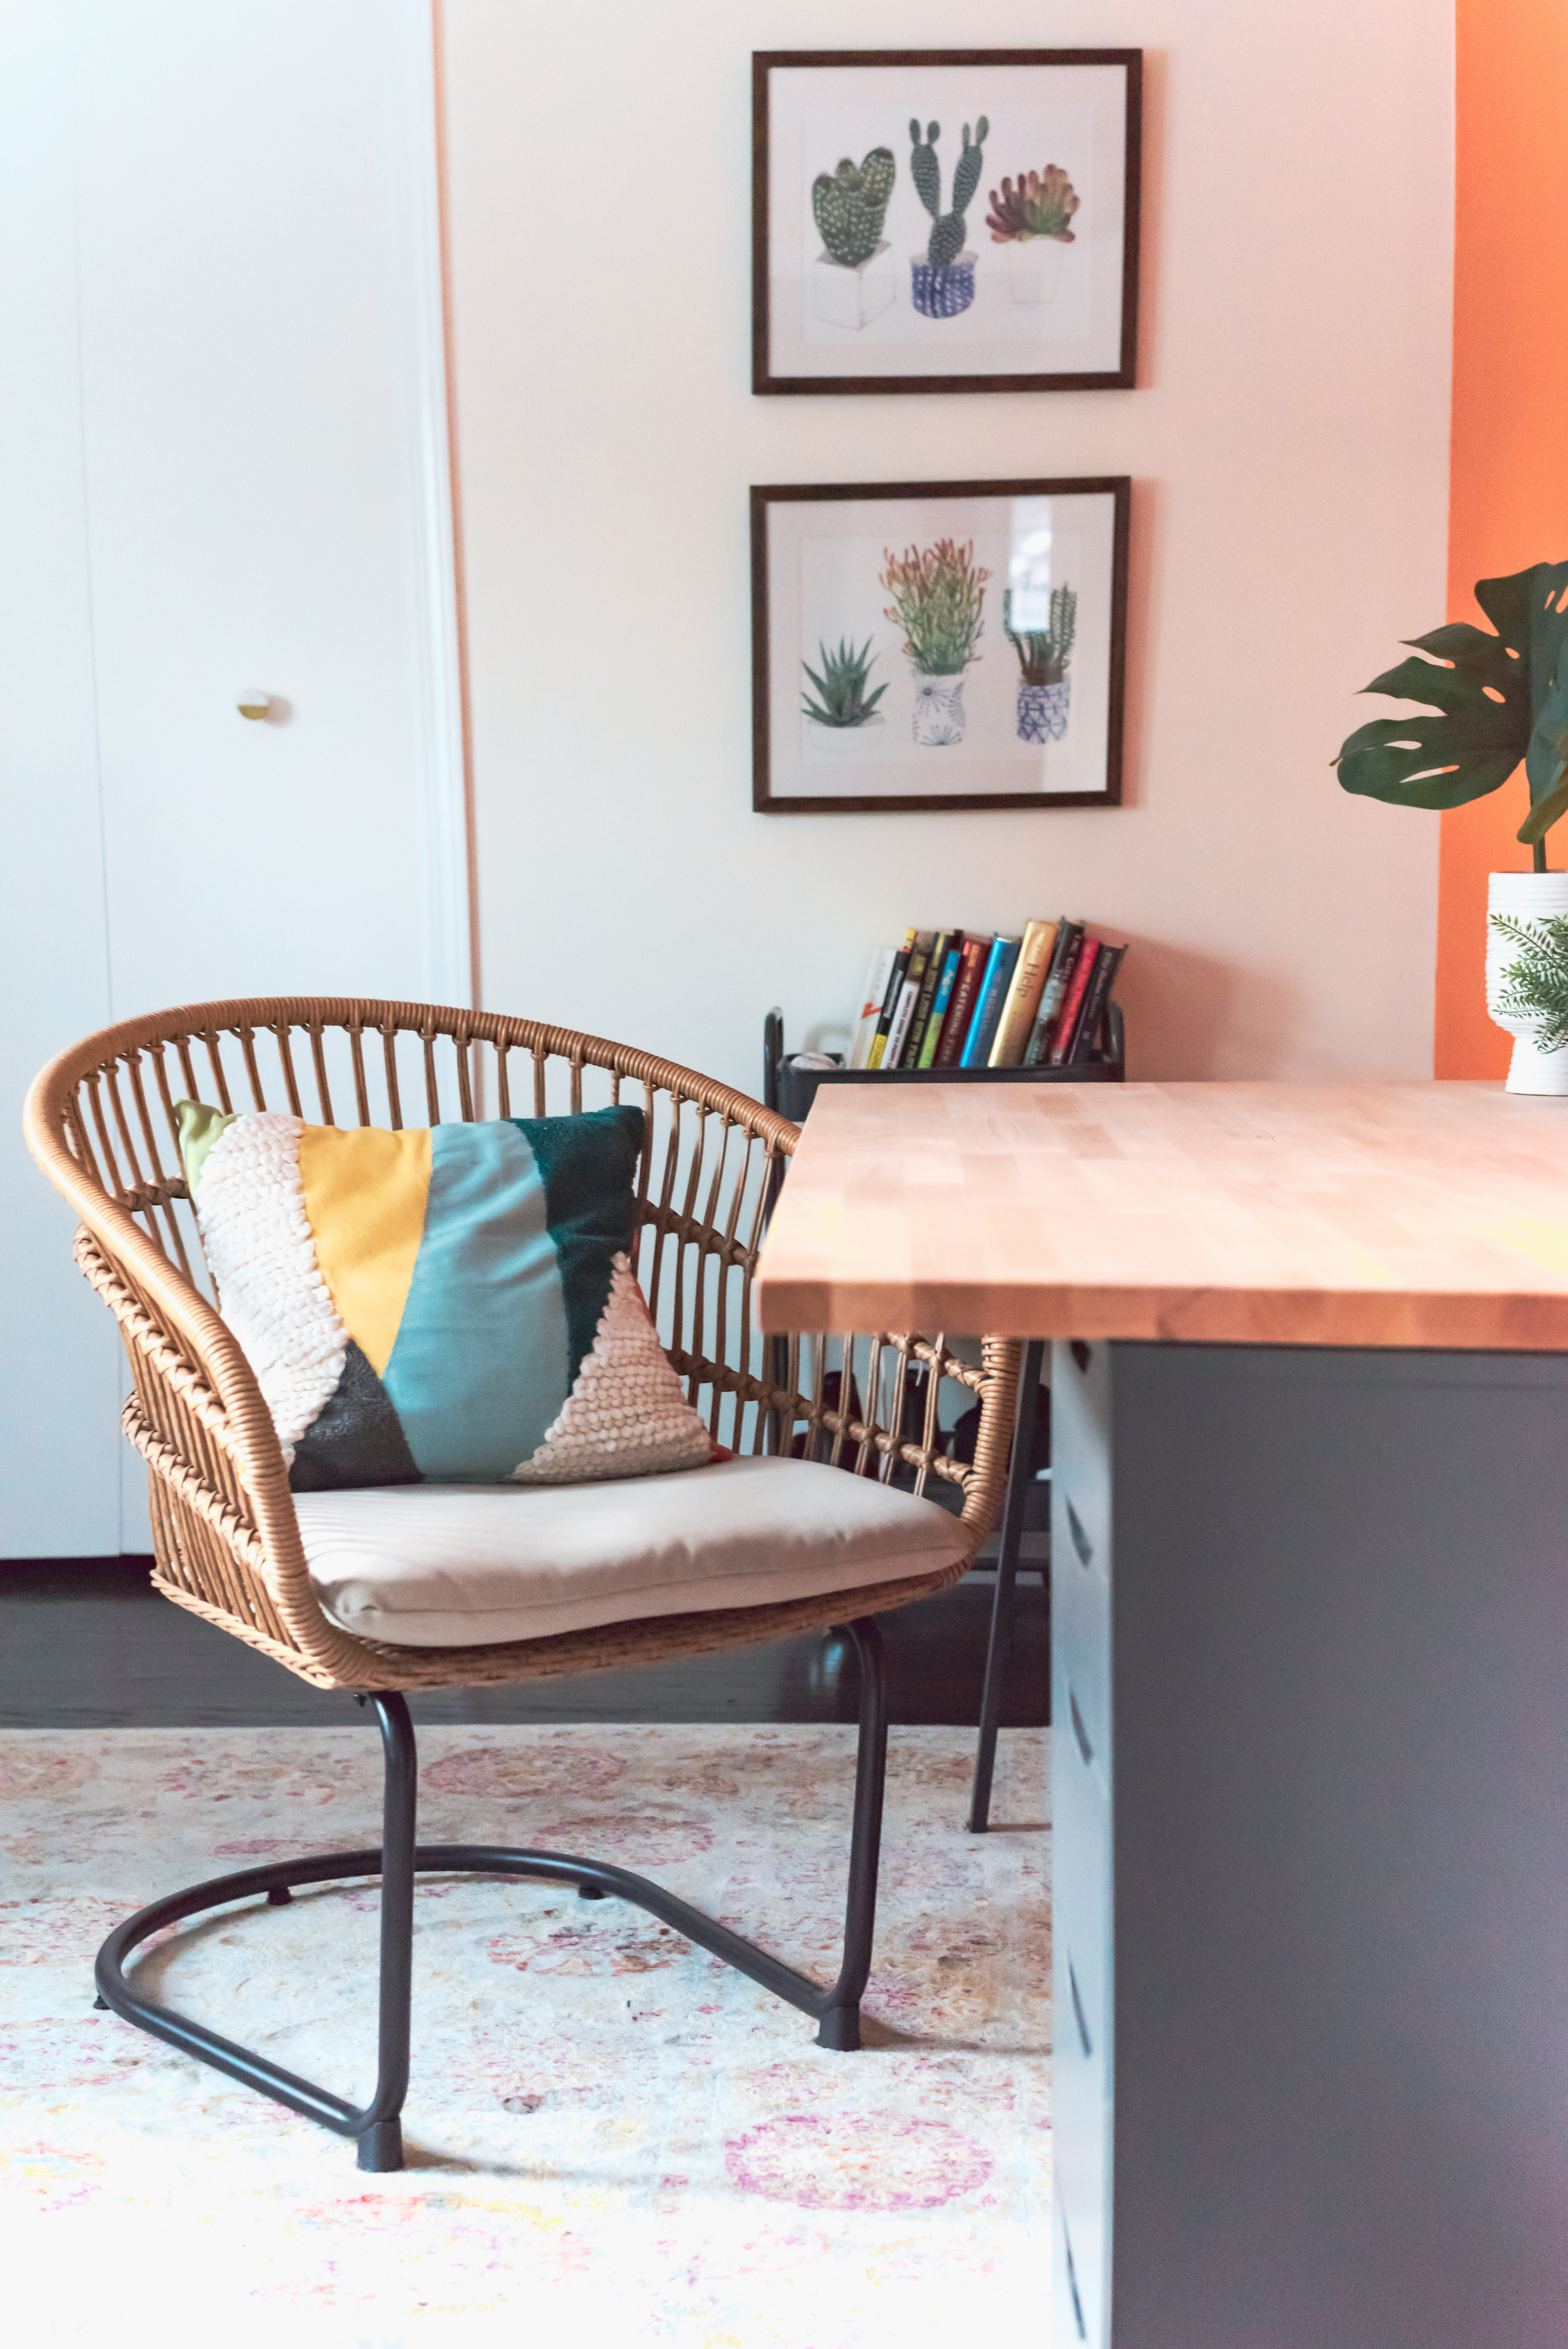Chair: (26, 966, 1029, 2221)
Painting: (723, 40, 1141, 397), (747, 471, 1130, 828)
